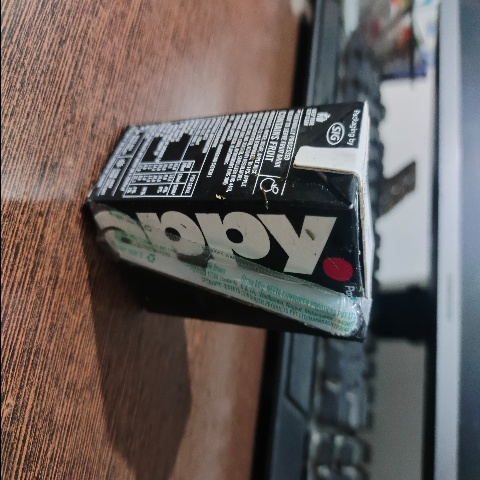appy: (89, 94, 380, 364)
